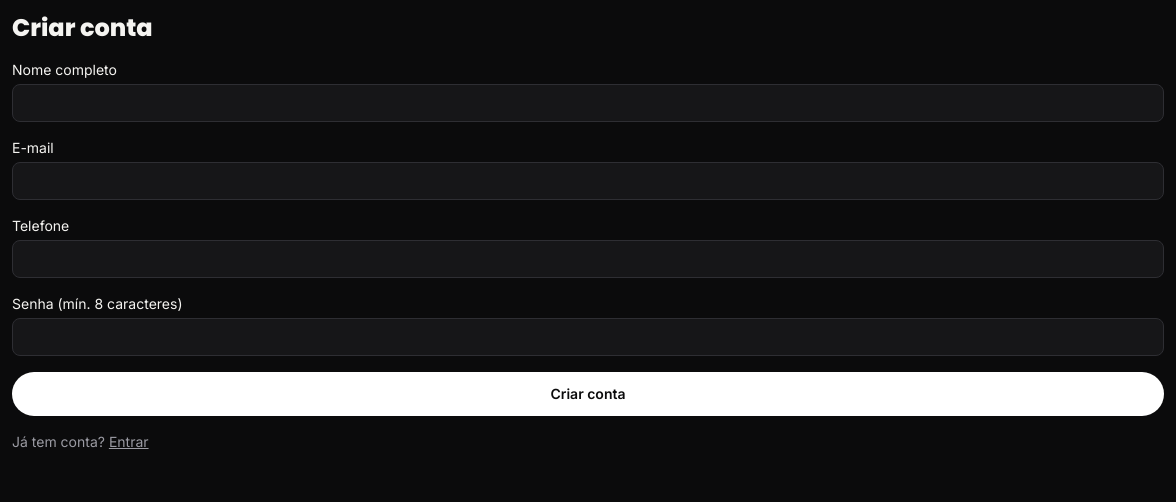
Test: SignupForm › 429 too-many-requests mostra mensagem de rate limit
Type "João" into the field labelled "Nome completo".
click(588, 103); type("João")  # box [12,84,1164,122]
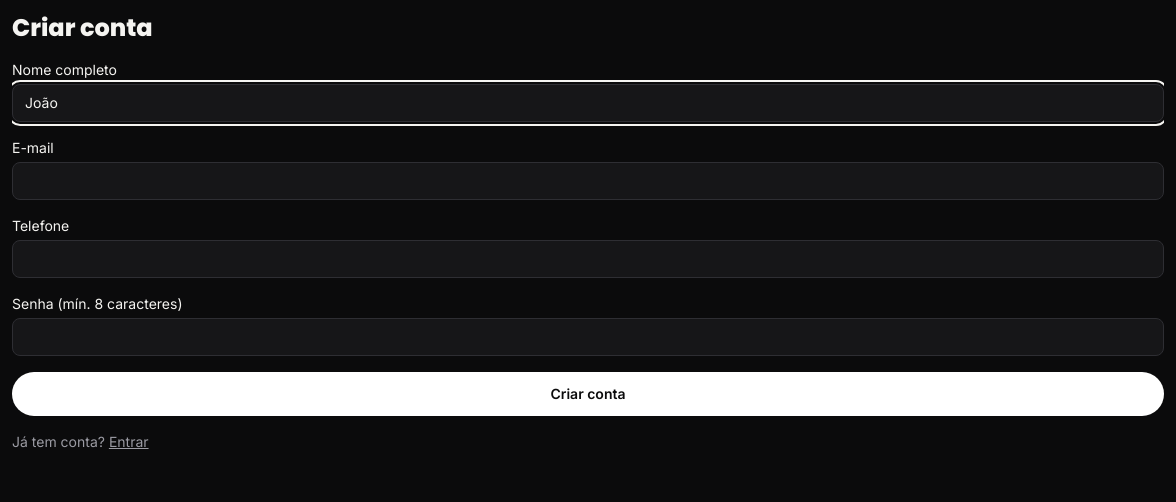
Type "a@b.c" into the field labelled "E-mail".
click(588, 181); type("a@b.c")  # box [12,162,1164,200]
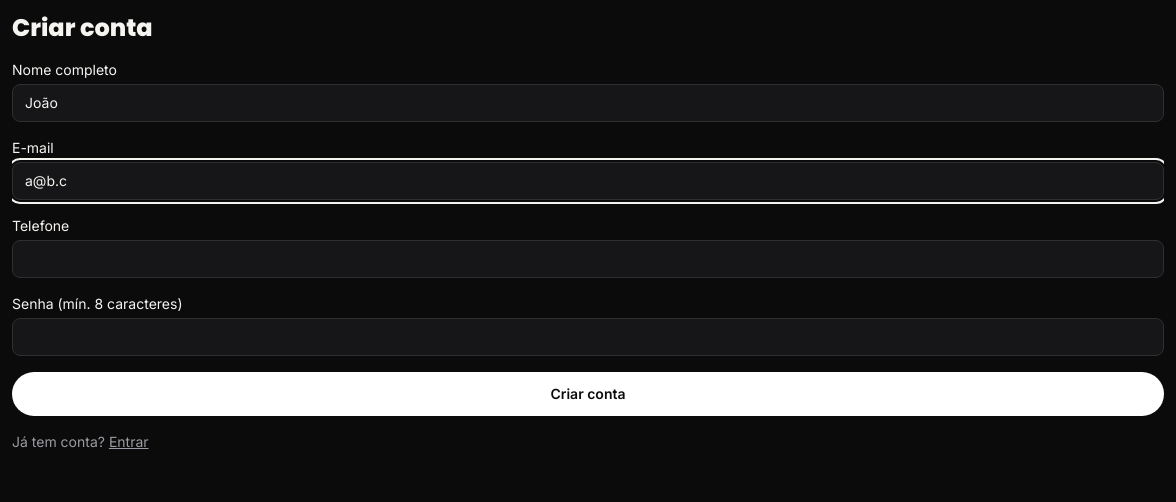
Type "(21) 99999-0000" into the field labelled "Telefone".
click(588, 259); type("(21) 99999-0000")  # box [12,240,1164,278]
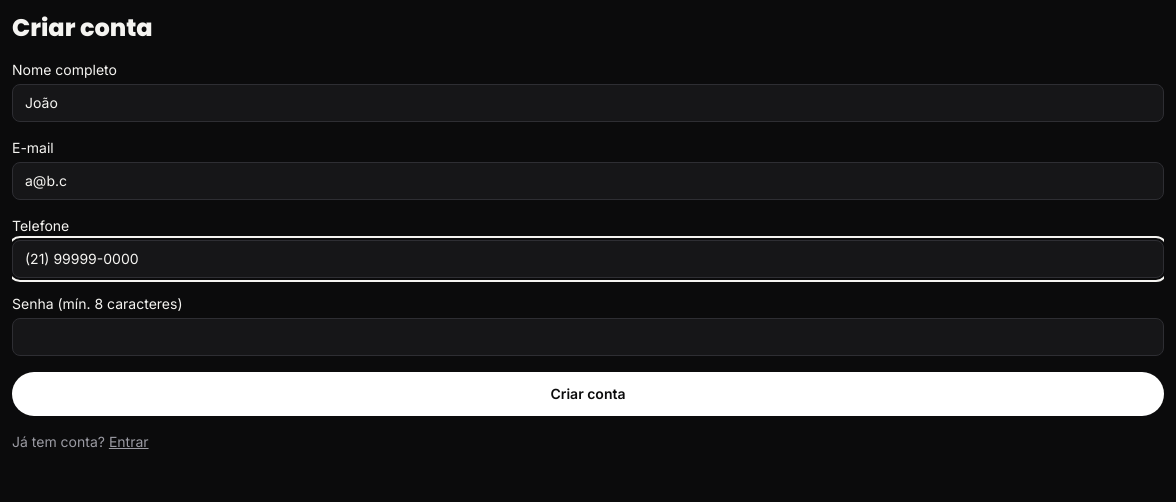
Type "senha12345" into the password field labelled "Senha (mín. 8 caracteres)".
click(588, 337); type("senha12345")  # box [12,318,1164,356]
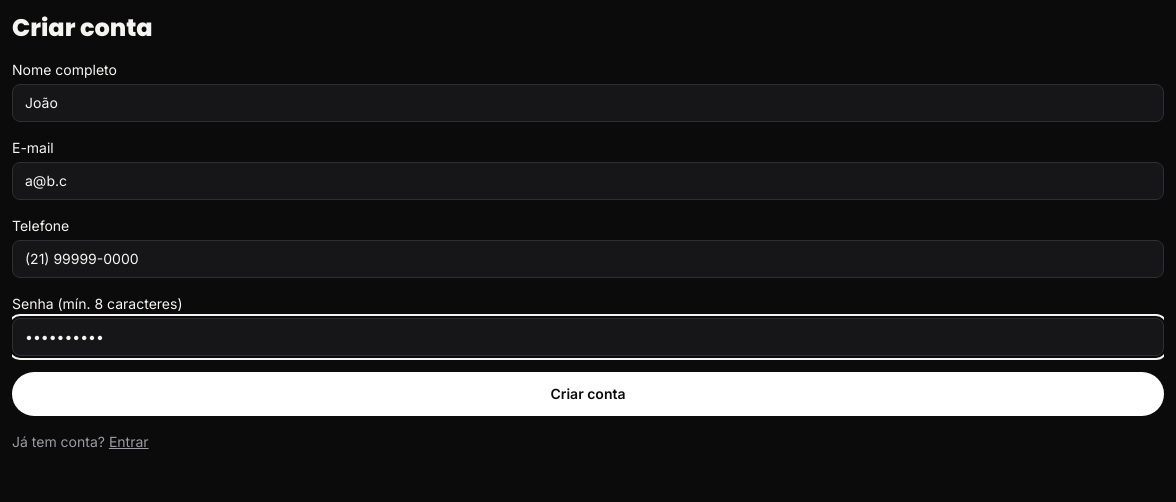
Click the button "Criar conta".
click(588, 394)  # box [12,372,1164,416]
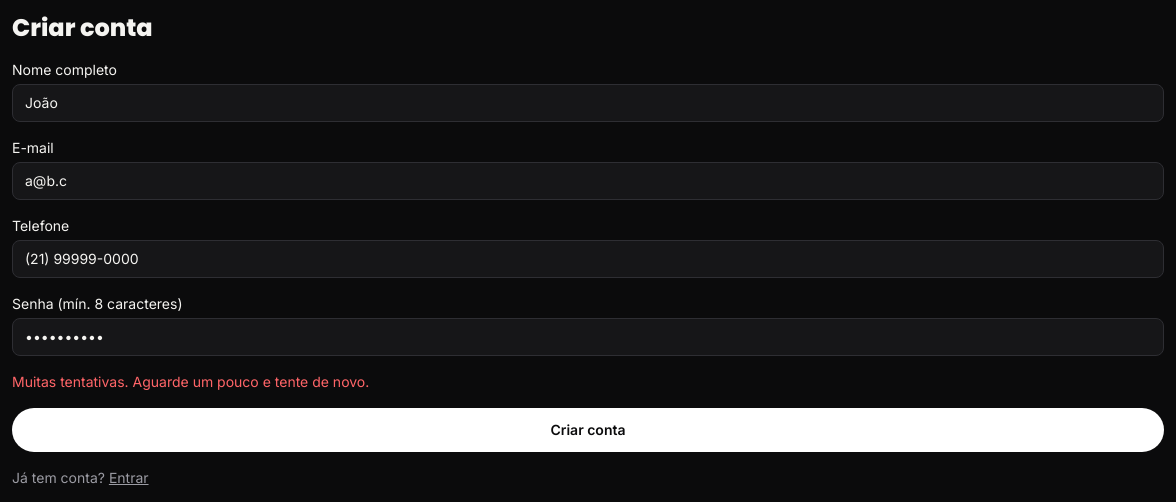
Now the message shows "Muitas tentativas", box [12,373,369,390]
